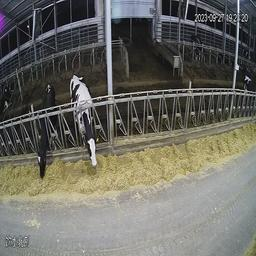cow: (67, 72, 101, 183), (29, 83, 58, 188), (242, 71, 255, 119), (1, 78, 15, 115)
